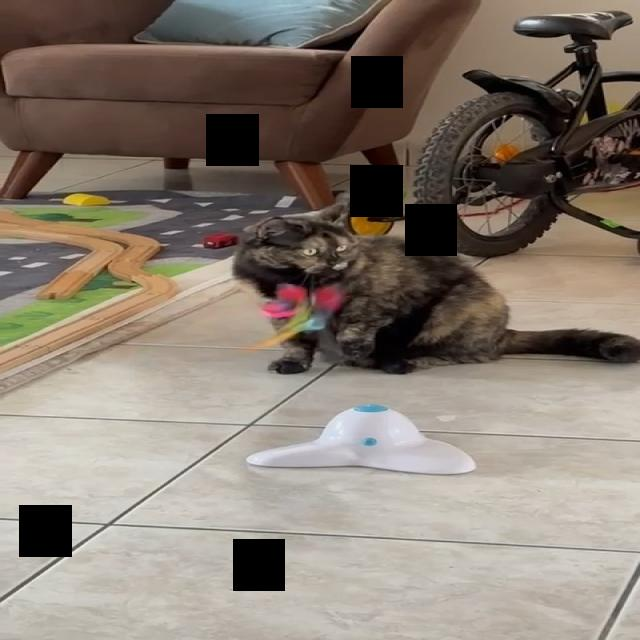authorized: (231, 192, 638, 375)
